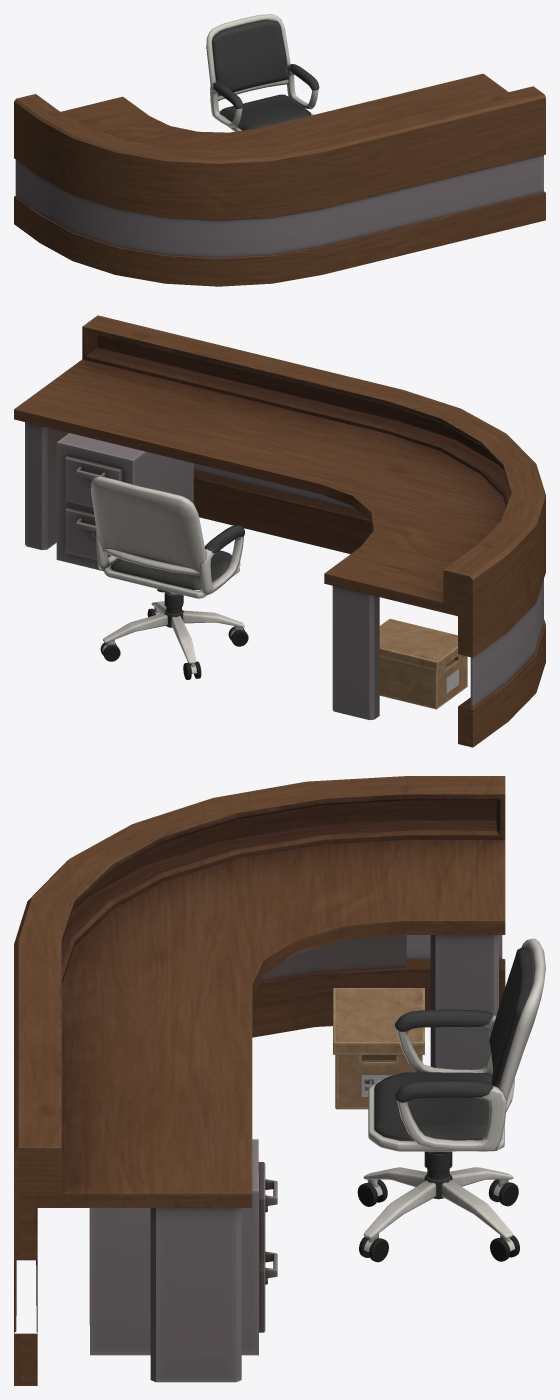
The model's file is Reception_Desk.fbx.
3 renders of one model, top to bottom at view 1: azimuth 30°, elevation 25°; view 2: azimuth 150°, elevation 25°; view 3: azimuth 270°, elevation 25°, orthographic. The views are drawn at different scales.
Visible parts, largest first — view 1: Reception_Desk, Reception_Chair; view 2: Reception_Desk, Reception_Chair; view 3: Reception_Desk, Reception_Chair.
Part boxes in pixels (<box>): Reception_Desk: <box>14,73,545,286</box>; Reception_Chair: <box>206,14,319,131</box>; Reception_Desk: <box>14,315,545,747</box>; Reception_Chair: <box>91,476,248,679</box>; Reception_Desk: <box>14,776,505,1385</box>; Reception_Chair: <box>357,938,545,1262</box>.
Size of the model in its own units: 3.13 by 1.04 by 1.88.
Materials: 1 (1 with a texture image).
